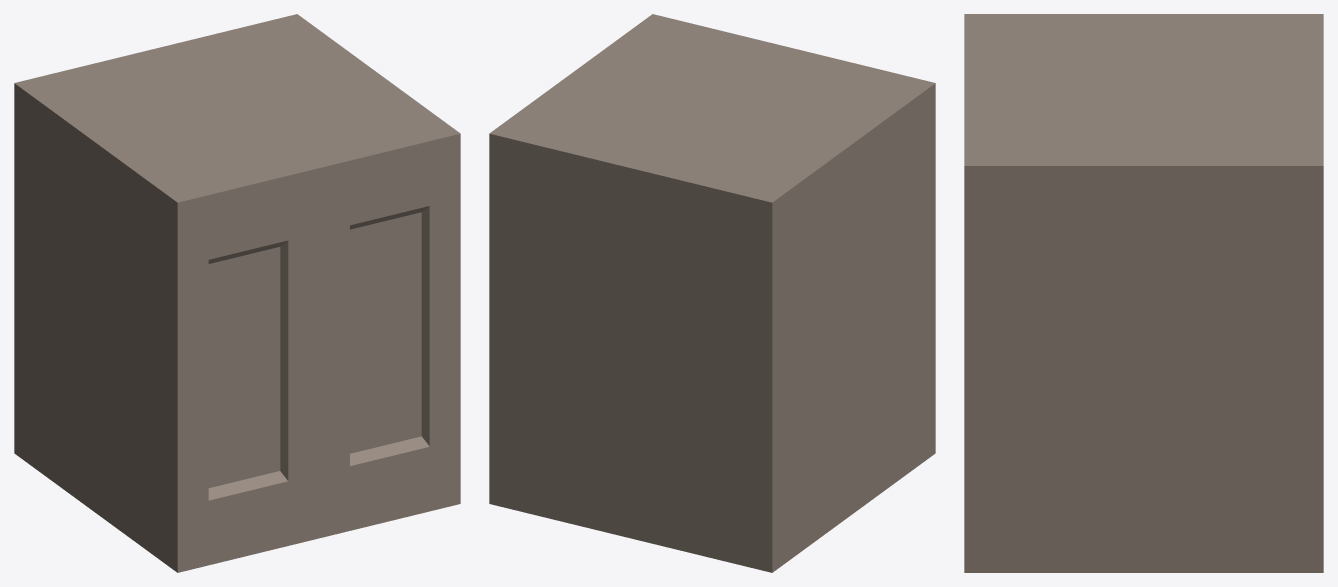
Rendered from 12-15-High-12-Deep_std_001_W12in_1D.glb.
3 views of the same model, side by side, from view 1: azimuth 30°, elevation 25°; view 2: azimuth 150°, elevation 25°; view 3: azimuth 270°, elevation 25° (orthographic). The views are drawn at different scales.
Parts seen in each view (by area): view 1: 12-15-High-12-Deep.std.001_W12in_1D; view 2: 12-15-High-12-Deep.std.001_W12in_1D; view 3: 12-15-High-12-Deep.std.001_W12in_1D.
Boxes of the visible parts, x1,y1,x2,y2 form: 12-15-High-12-Deep.std.001_W12in_1D: (14, 14, 460, 572); 12-15-High-12-Deep.std.001_W12in_1D: (489, 14, 935, 572); 12-15-High-12-Deep.std.001_W12in_1D: (964, 14, 1323, 572).
Bounding box in the file's own units: 0.3048 × 0.381 × 0.3048.
